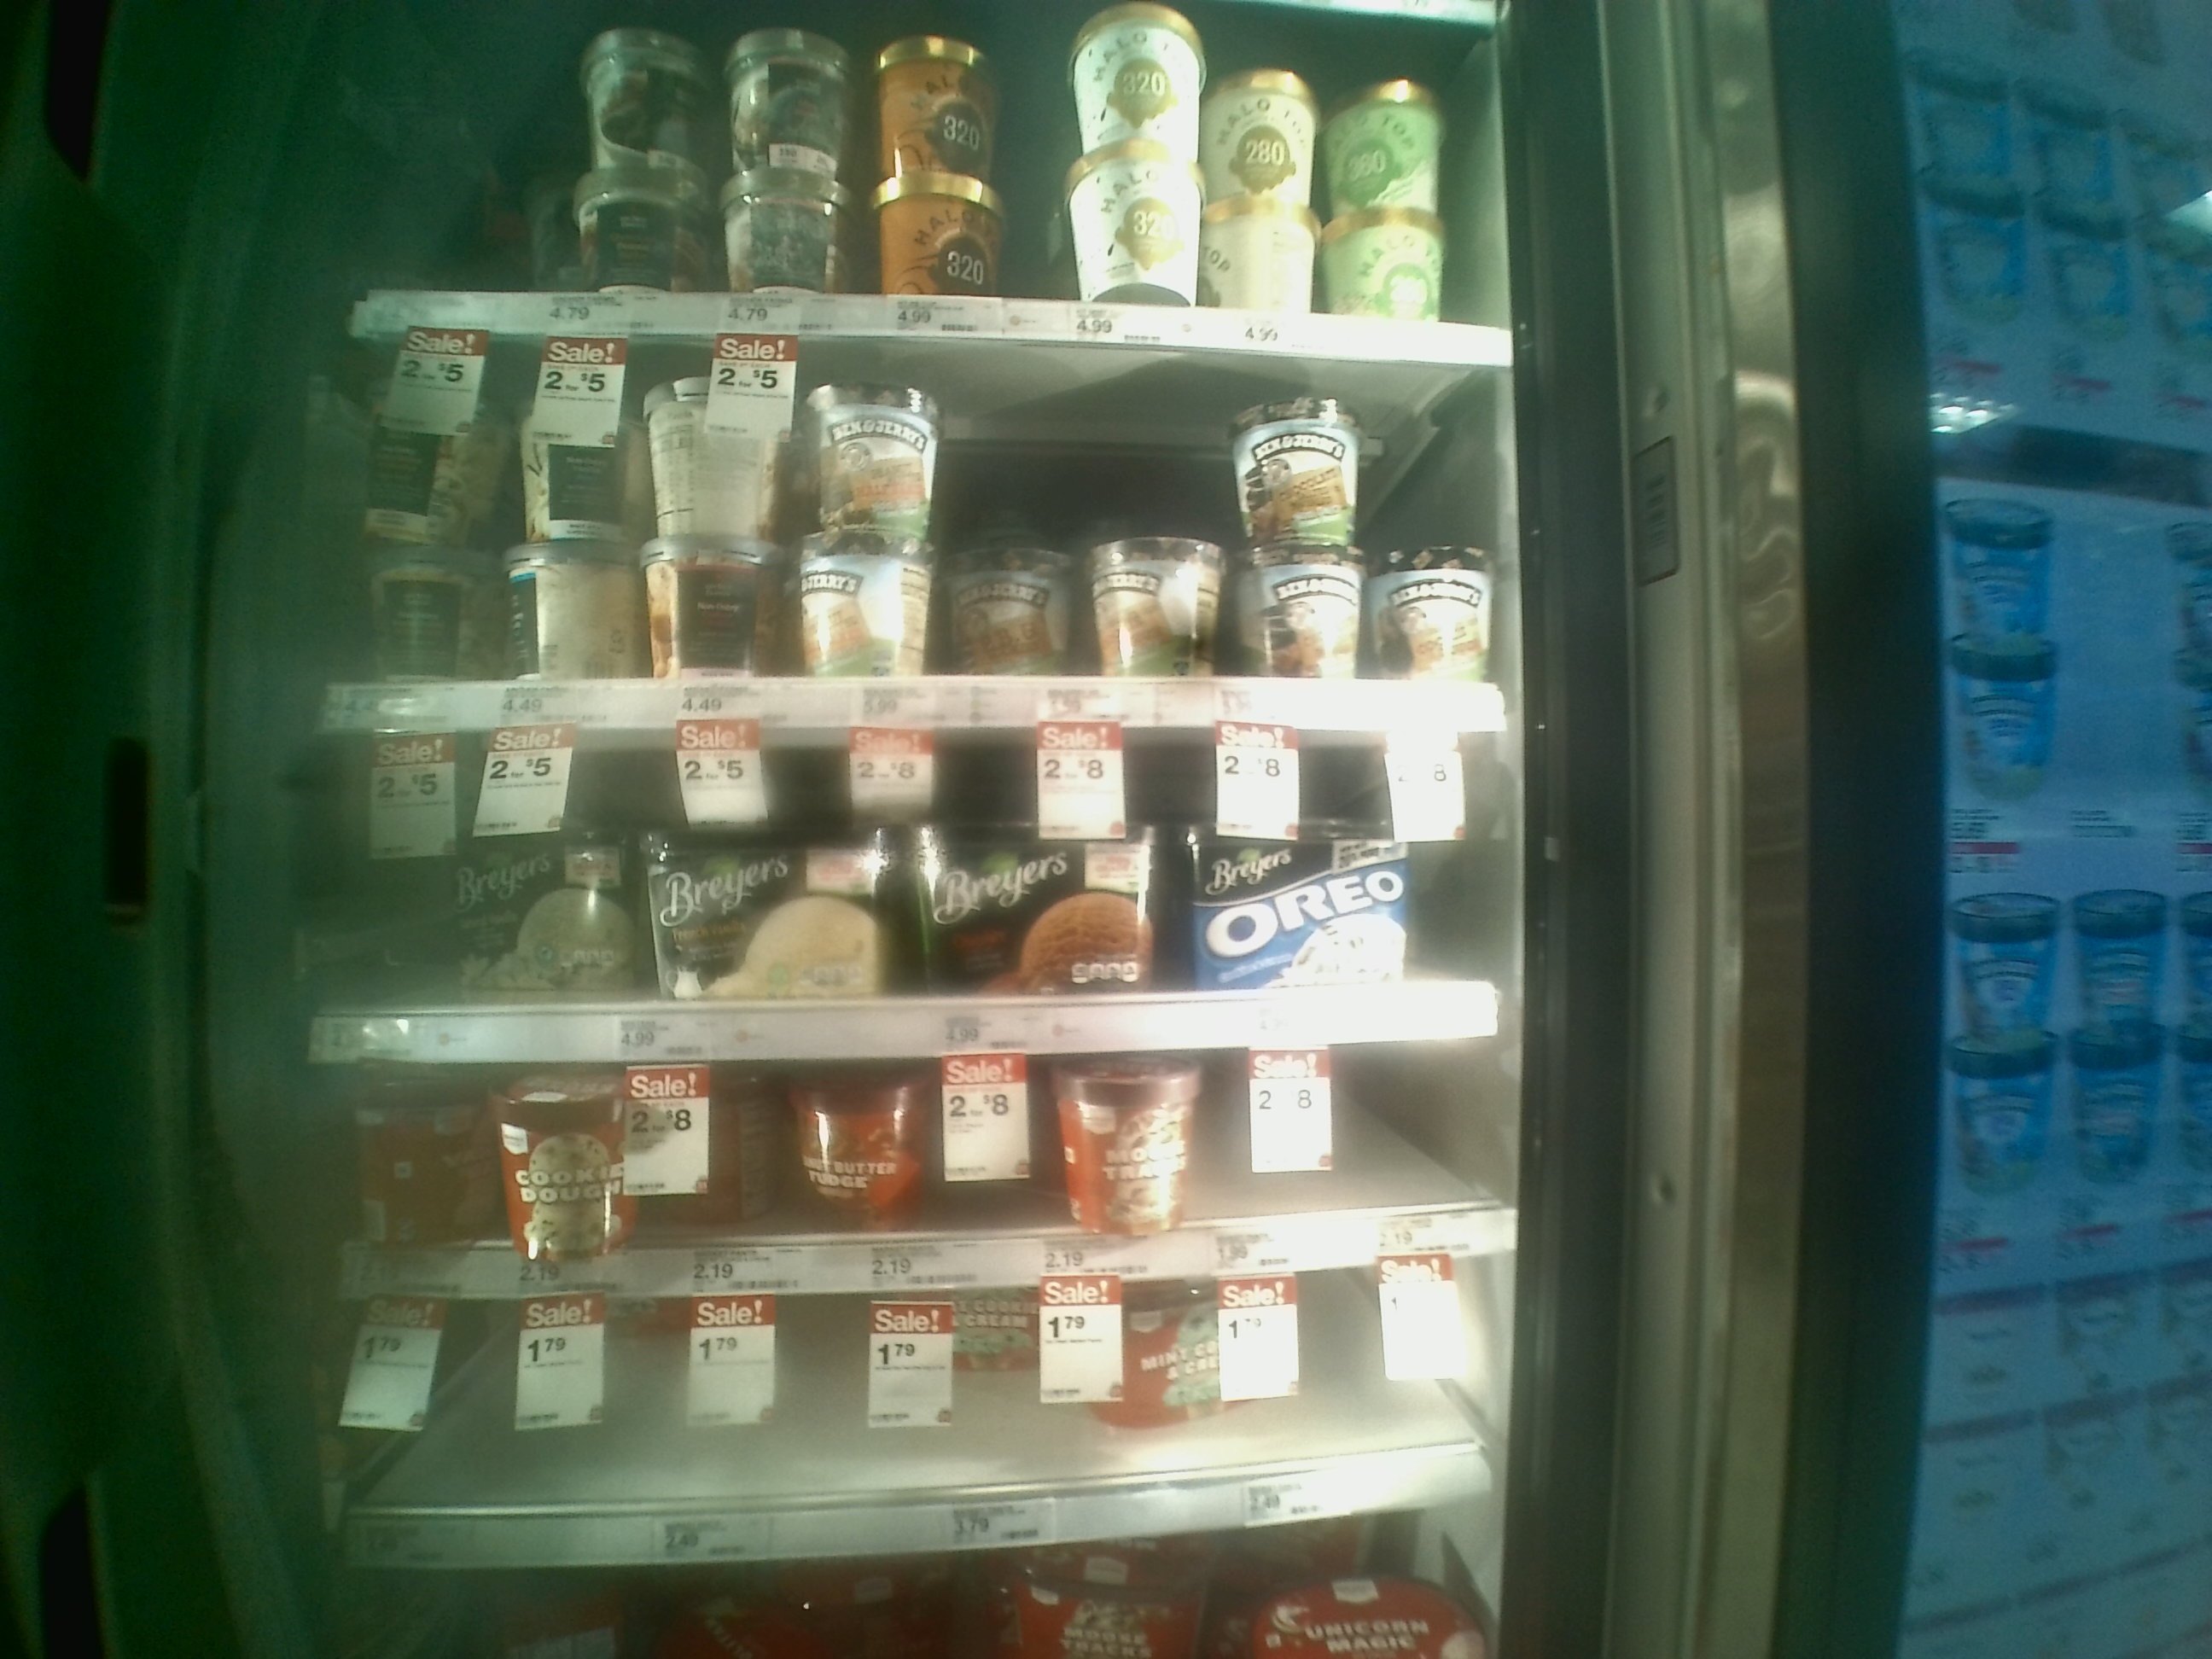shelf: (341, 335, 1519, 727), (336, 728, 1533, 1049), (341, 1297, 1524, 1577), (320, 1044, 1536, 1298)
